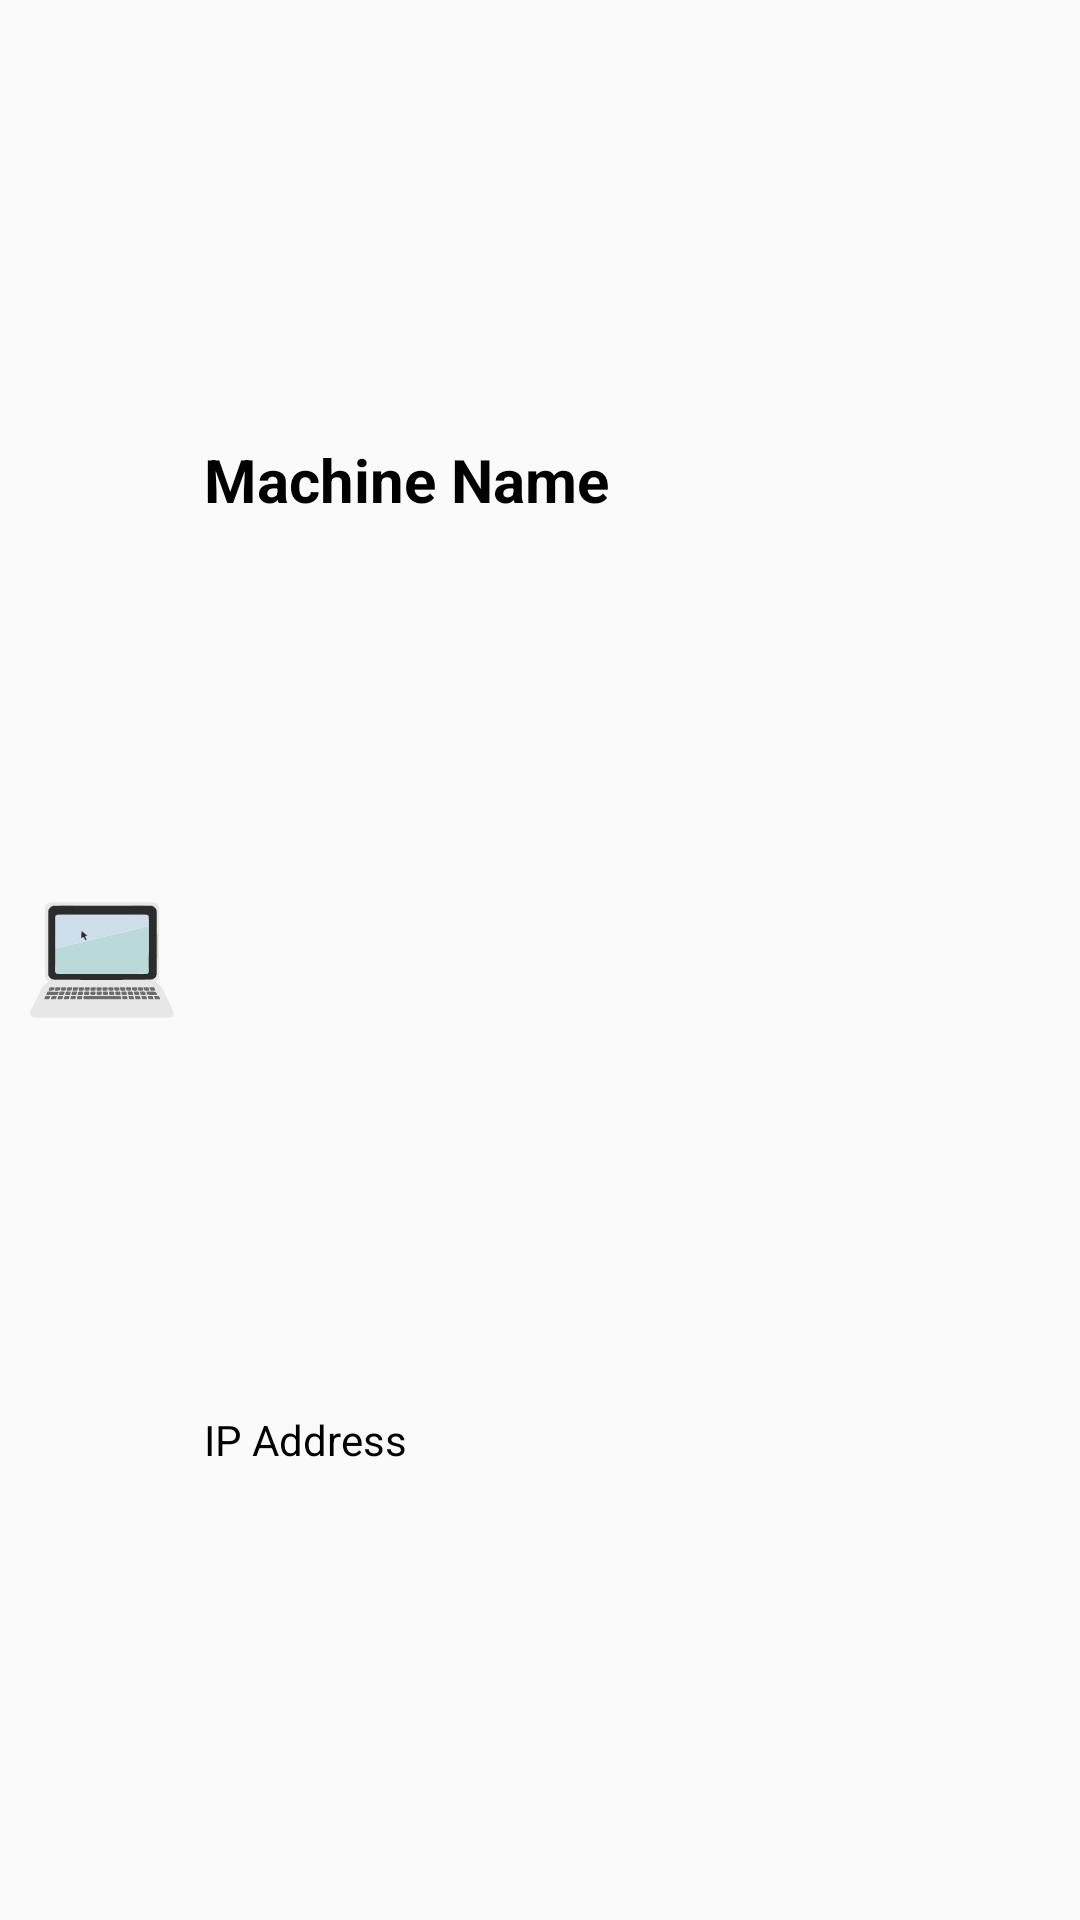

Screen size 1080w x 1920h. Icon name, then its center in pixels as [x,y]:
laptop: [102,952]
